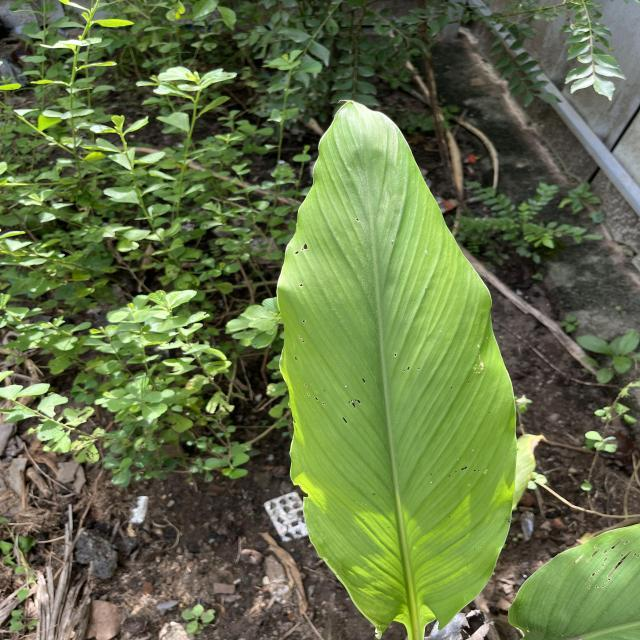Curcuma longa: (273, 94, 521, 640)
